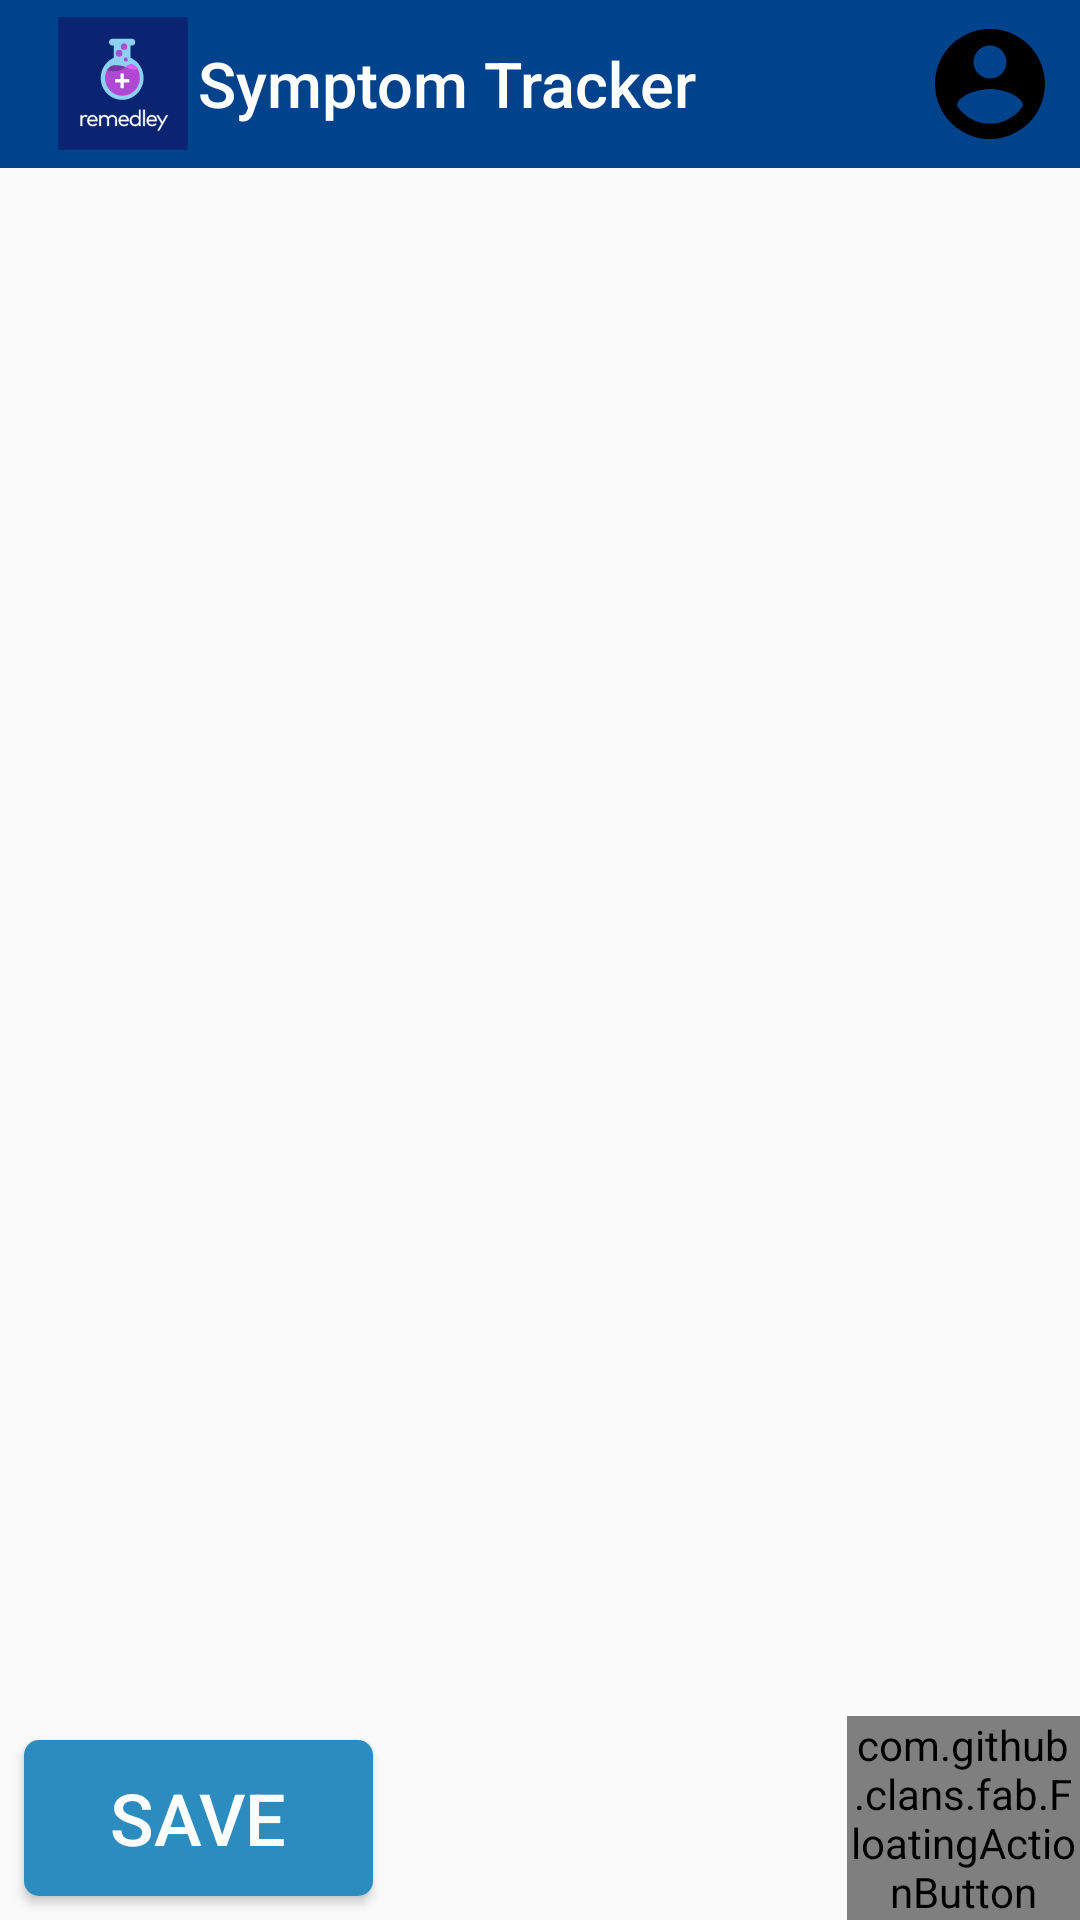

Screen size 1080px x 1920px. Icon name, then its center in pixels as [x,y]:
account: [990,84]
